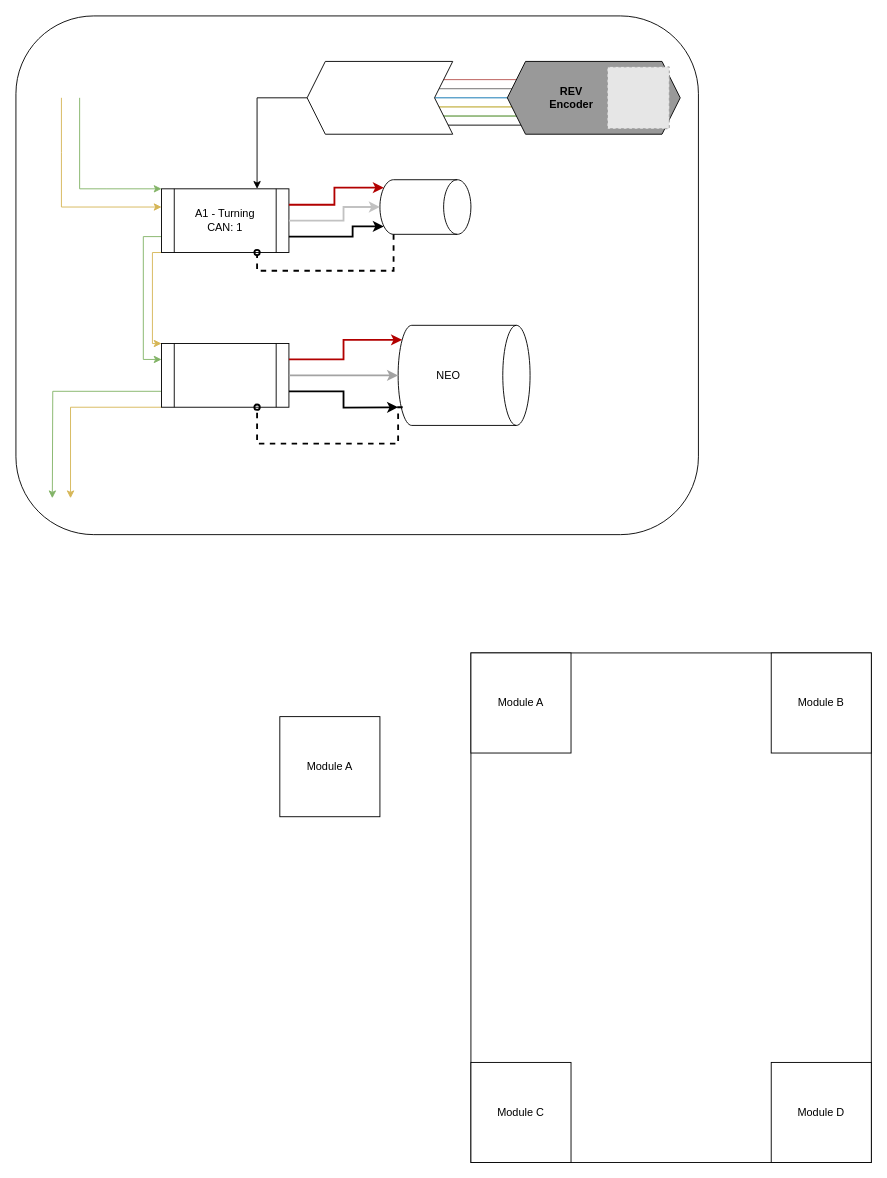
Some shapes in this 887 by 1178 pixel diagram are drawn without their labels. Grey dashed boxes stand in for pictures. Here are the shapes that lost their labels. From the top down, the centre of each, then its label:
At pixel 379 97: "Alternate Encoder Adapter Board".
At pixel 425 206: "NEO 550".
At pixel 225 375: "A2 - Drive CAN: 2".
